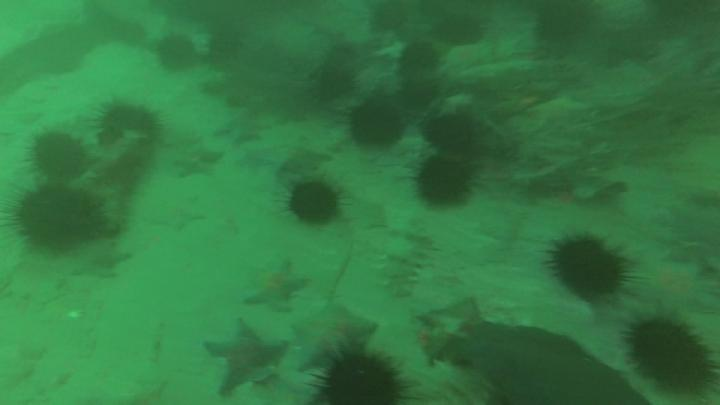echinus: (630, 318, 714, 398), (15, 191, 101, 251), (553, 236, 629, 298), (321, 352, 404, 405), (30, 133, 92, 179), (417, 158, 471, 206), (353, 104, 406, 149), (287, 182, 340, 223), (424, 115, 474, 153), (157, 37, 199, 73), (321, 60, 354, 103), (105, 103, 154, 131), (437, 17, 480, 45), (401, 44, 438, 70)
holothurian: (388, 224, 435, 304)
starfish: (206, 320, 285, 389), (296, 309, 378, 367), (645, 258, 715, 319), (242, 255, 305, 312), (146, 194, 207, 233), (74, 243, 125, 277), (177, 146, 222, 180), (234, 145, 274, 169)
